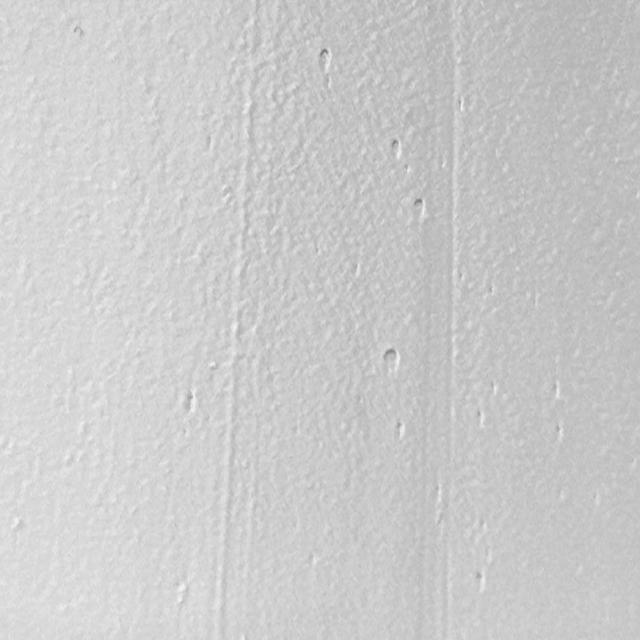pin holes: (380, 347, 403, 378), (313, 44, 334, 75), (409, 196, 428, 222), (181, 389, 199, 416), (470, 568, 488, 594), (388, 138, 406, 162), (390, 420, 408, 444), (549, 378, 566, 403), (473, 408, 489, 430), (70, 22, 87, 42), (350, 263, 362, 278)
